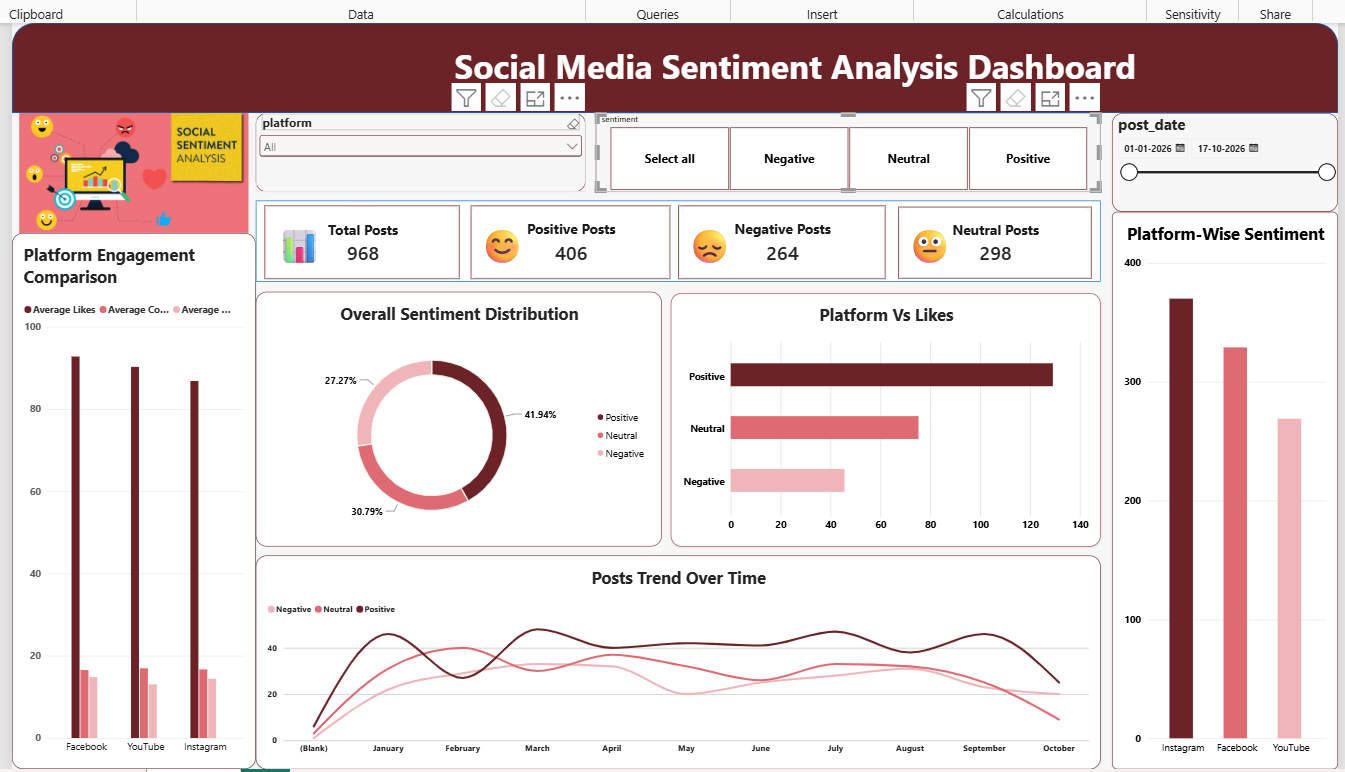

The dashboard page shown, as its layout file describes it:
{"tool":"powerbi","page":{"name":"Page 1","canvas":[1920,1080],"ordinal":0},"visuals":[{"type":"shape","box":[0,0,1920.1,130.3],"z":0},{"type":"donutChart","title":"Overall Sentiment Distribution","fields":{"Category":["sentiment_analysis_powerbi.sentiment"],"Y":["sentiment_analysis_powerbi.Total Posts"]},"box":[352.9,389.1,588.1,369.2],"z":1000},{"type":"columnChart","title":"Platform-Wise Sentiment","fields":{"Category":["sentiment_analysis_powerbi.platform"],"Y":["sentiment_analysis_powerbi.Total Posts"]},"box":[1592.5,273.3,327.5,807.1],"z":2000},{"type":"clusteredBarChart","title":"Platform Vs Likes ","fields":{"Category":["sentiment_analysis_powerbi.sentiment"],"Y":["sentiment_analysis_powerbi.Average Likes"]},"box":[953.7,390.9,622.5,367.4],"z":3000},{"type":"lineChart","title":"Posts Trend Over Time","fields":{"Category":["sentiment_analysis_powerbi.post_date.Variation.Date Hierarchy.Month"],"Series":["sentiment_analysis_powerbi.sentiment"],"Y":["sentiment_analysis_powerbi.Total Posts"]},"box":[352.9,770.9,1223.3,309.5],"z":4000},{"type":"slicer","fields":{"Values":["sentiment_analysis_powerbi.platform"]},"box":[352.9,130.3,477.8,114],"z":5000},{"type":"slicer","fields":{"Values":["sentiment_analysis_powerbi.sentiment"]},"box":[845.1,130.3,731.1,114],"z":6000},{"type":"slicer","fields":{"Values":["sentiment_analysis_powerbi.post_date"]},"box":[1592.5,130.3,327.5,143],"z":7000},{"type":"clusteredColumnChart","title":"Platform Engagement Comparison","fields":{"Category":["sentiment_analysis_powerbi.platform"],"Y":["sentiment_analysis_powerbi.Average Likes","sentiment_analysis_powerbi.Average Comments","sentiment_analysis_powerbi.Average Shares"]},"box":[0,304,352.9,776.3],"z":8000},{"type":"shape","box":[352.9,257,1223.3,117.6],"z":9000},{"type":"cardVisual","fields":{"Data":["sentiment_analysis_powerbi.Total Posts"]},"box":[365.6,264.2,282.3,106.8],"z":10000},{"type":"cardVisual","fields":{"Data":["sentiment_analysis_powerbi.Positive Posts"]},"box":[664.1,264.2,289.5,106.8],"z":12000},{"type":"cardVisual","fields":{"Data":["sentiment_analysis_powerbi.Neutral Posts"]},"box":[1283,266,280.5,105],"z":13000},{"type":"textbox","box":[38,29,1605.2,88.7],"z":14000},{"type":"textbox","box":[383.6,287.7,81.4,83.2],"z":15001},{"type":"cardVisual","fields":{"Data":["sentiment_analysis_powerbi.Negative Posts"]},"box":[964.5,264.2,300.4,106.8],"z":15002},{"type":"textbox","box":[676.8,287.7,68.8,65.1],"z":15003},{"type":"textbox","box":[977.2,287.7,61.5,65.1],"z":15004},{"type":"textbox","box":[1295.7,287.7,57.9,65.1],"z":15005},{"type":"image","box":[0,130.3,352.9,173.7],"z":15007}]}

Visuals, with their boxes on the page's 1920x1080 design canvas (x1, y1, x2, y2). These are canvas units, not pixel positions in the 1345x772 screenshot, which may show the page scaled, cropped or inside an application window:
shape: BBox(0, 0, 1920, 130)
"Overall Sentiment Distribution" donutChart: BBox(353, 389, 941, 758)
"Platform-Wise Sentiment" columnChart: BBox(1592, 273, 1920, 1080)
"Platform Vs Likes " clusteredBarChart: BBox(954, 391, 1576, 758)
"Posts Trend Over Time" lineChart: BBox(353, 771, 1576, 1080)
slicer - sentiment_analysis_powerbi.platform: BBox(353, 130, 831, 244)
slicer - sentiment_analysis_powerbi.sentiment: BBox(845, 130, 1576, 244)
slicer - sentiment_analysis_powerbi.post_date: BBox(1592, 130, 1920, 273)
"Platform Engagement Comparison" clusteredColumnChart: BBox(0, 304, 353, 1080)
shape: BBox(353, 257, 1576, 375)
cardVisual - sentiment_analysis_powerbi.Total Posts: BBox(366, 264, 648, 371)
cardVisual - sentiment_analysis_powerbi.Positive Posts: BBox(664, 264, 954, 371)
cardVisual - sentiment_analysis_powerbi.Neutral Posts: BBox(1283, 266, 1564, 371)
textbox: BBox(38, 29, 1643, 118)
textbox: BBox(384, 288, 465, 371)
cardVisual - sentiment_analysis_powerbi.Negative Posts: BBox(964, 264, 1265, 371)
textbox: BBox(677, 288, 746, 353)
textbox: BBox(977, 288, 1039, 353)
textbox: BBox(1296, 288, 1354, 353)
image: BBox(0, 130, 353, 304)
